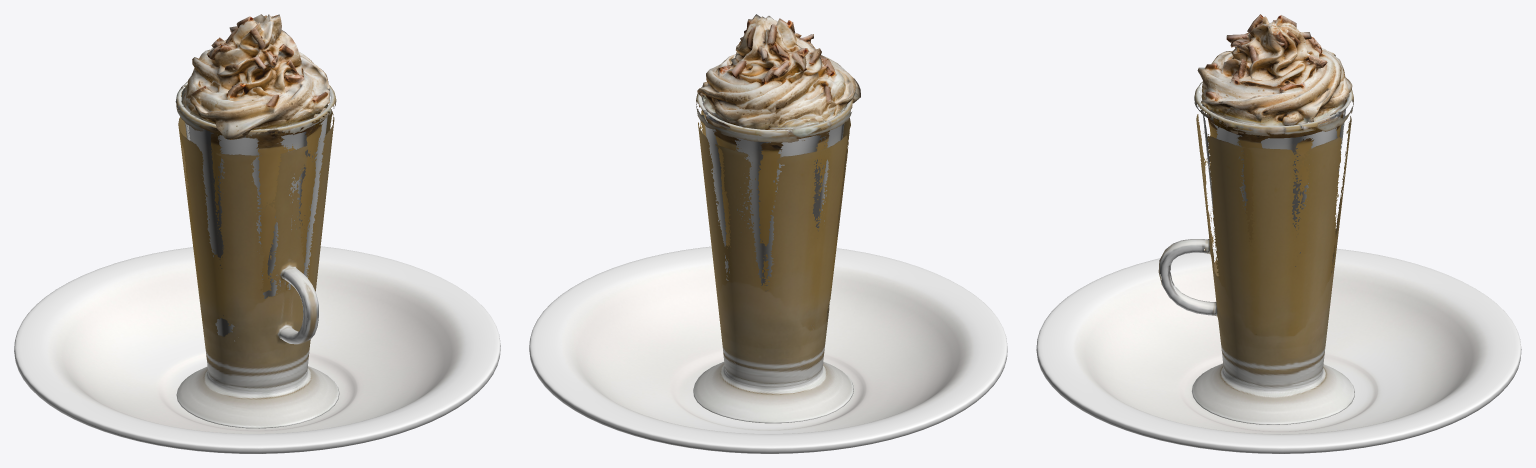
The model's file is Nuttella_Latte.FBX.
3 renders of one model, left to right at view 1: azimuth 30°, elevation 25°; view 2: azimuth 150°, elevation 25°; view 3: azimuth 270°, elevation 25°, orthographic.
Parts seen in each view (by area): view 1: Object008, Object009; view 2: Object008, Object009; view 3: Object008, Object009.
Boxes of the visible parts, left/top/right/bottom form: Object008: left=14, top=14, right=500, bottom=453; Object009: left=175, top=82, right=339, bottom=428; Object008: left=529, top=14, right=1007, bottom=453; Object009: left=693, top=87, right=853, bottom=423; Object008: left=1036, top=14, right=1521, bottom=453; Object009: left=1158, top=81, right=1354, bottom=424.
Bounding box in the file's own units: 12.92 × 11.56 × 12.92.
2 materials, 2 textured.
